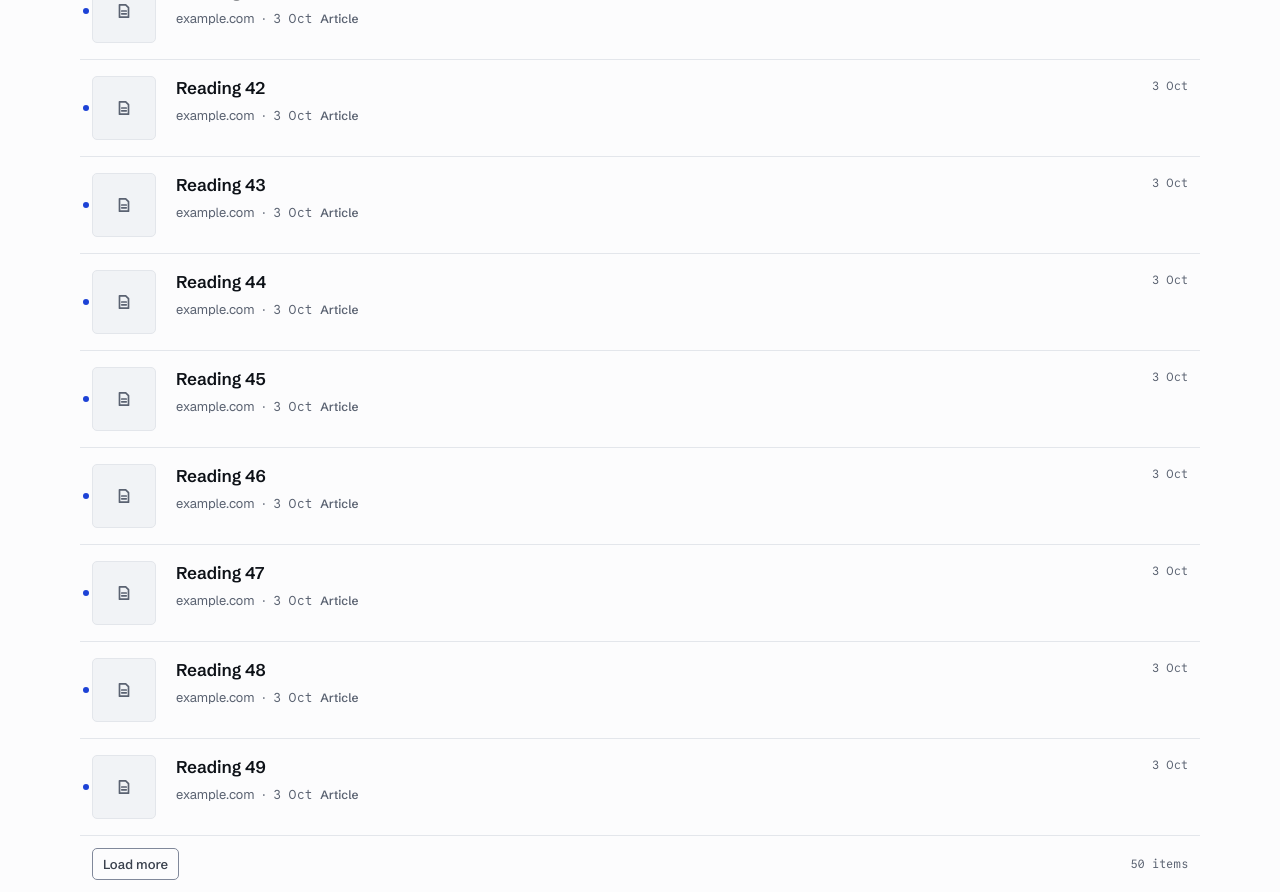
Test: LibraryView growing its list › keeps the rows and says why next to the button when a further page fails
The width and height of the screenshot is (1280, 892).
(page scrolled)
Click the button with class "library-more" at (136, 864), box [92,848,179,880]
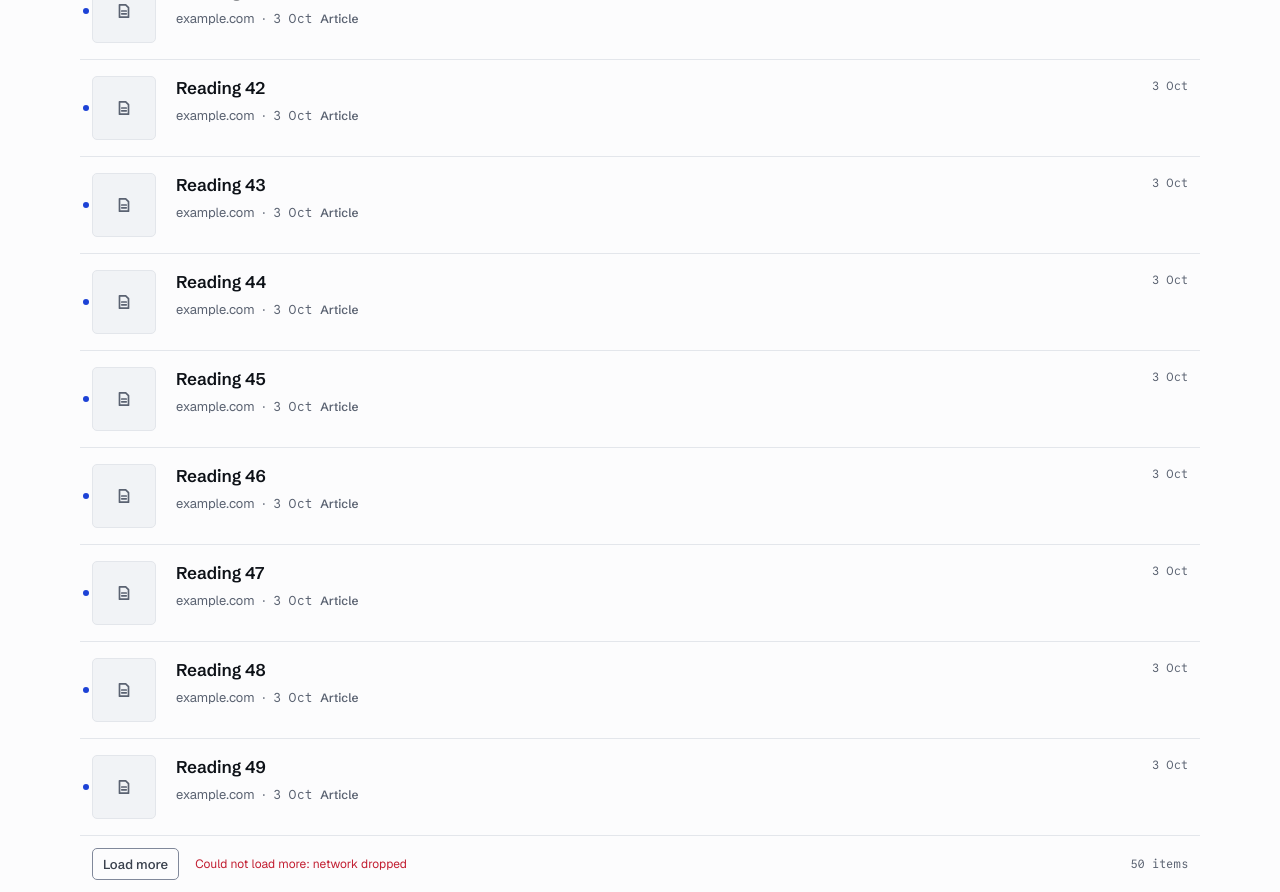
Expected: the message with class "library-more-error" shows "network dropped", [195,856,407,872]
